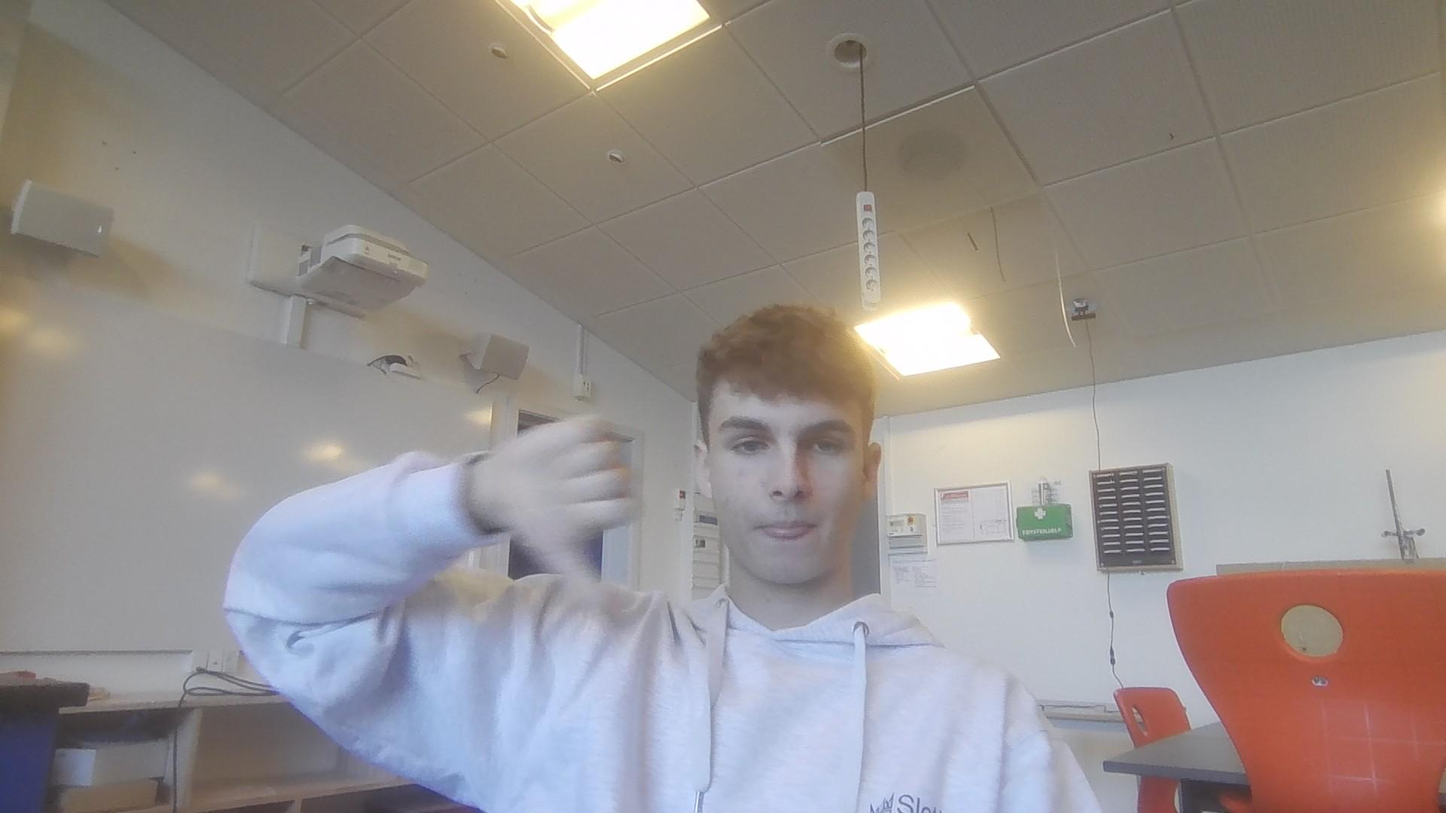thumbs down: (485, 399, 648, 627)
